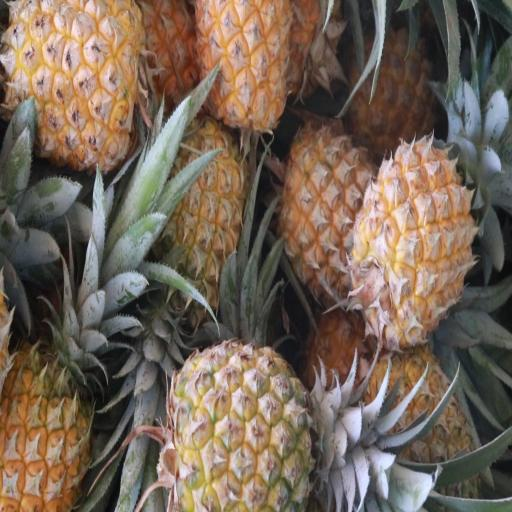------------------------------: (168, 347, 329, 509), (281, 131, 376, 312), (363, 357, 474, 509)
Pineapple - v8 v1: (360, 138, 479, 340), (4, 0, 138, 164), (155, 126, 240, 329), (0, 347, 99, 511), (198, 0, 290, 145), (351, 23, 437, 145)
